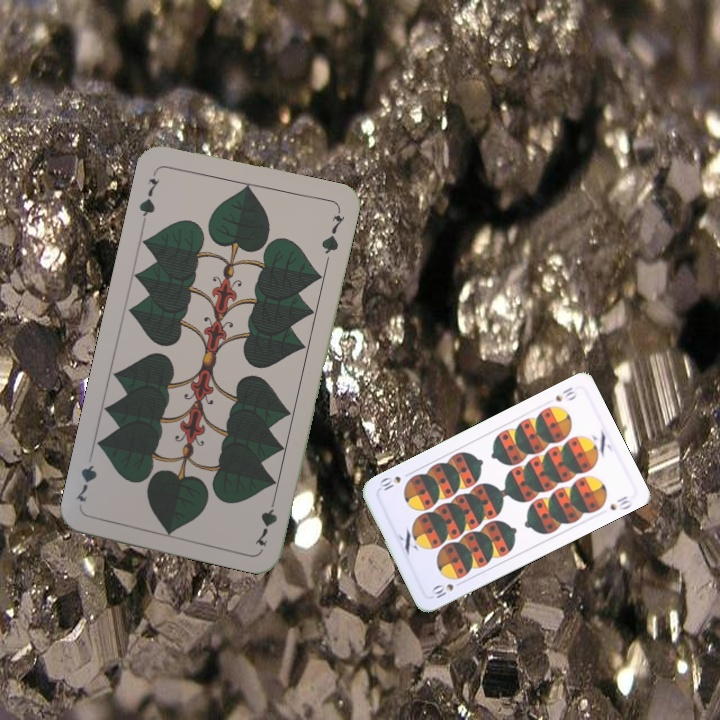G7: (251, 491, 280, 549), (135, 167, 162, 225)
S10: (427, 577, 466, 602), (551, 383, 580, 404)
